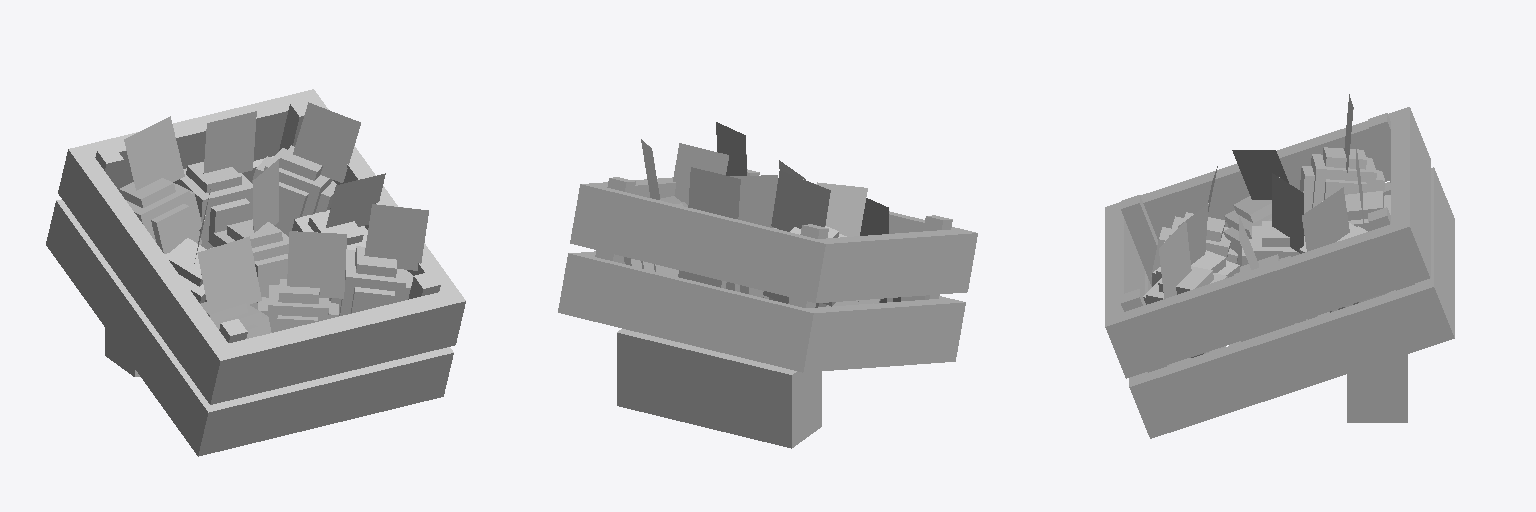
The model's file is 1746_golden_apples.obj.
3 renders of one model, left to right at view 1: azimuth 30°, elevation 25°; view 2: azimuth 150°, elevation 25°; view 3: azimuth 270°, elevation 25°, orthographic.
Visible parts, largest first — view 1: Plank8, Plank2, Plank9, Plank3, Plank11, Apple3stem, Apple7stem, Apple9stem, Apple6stem, Apple8stem, Plank5, Apple4stem (+27 smaller); view 2: Block, Plank12, Plank11, Plank8, Plank9, Apple8stem, Apple4stem, Apple1stem, Plank5, Apple5stem, Apple2stem, Plank6 (+5 smaller); view 3: Plank6, Plank5, Plank8, Plank11, Block, Plank2, Plank12, Apple7stem, Apple5stem, Apple1stem, Apple6stem, corner1 (+9 smaller).
Part boxes in pixels (x1,y1,x2,y2): Plank8: (58,145,237,404); Plank2: (228,292,448,400); Plank9: (46,199,225,456); Plank3: (216,351,435,451); Plank11: (86,94,301,191); Apple3stem: (287,231,346,298); Apple7stem: (293,102,360,182); Apple9stem: (197,236,261,306); Apple6stem: (364,204,428,270); Apple8stem: (124,116,184,190); Plank5: (296,89,465,349); Apple4stem: (203,111,256,173); Block: (617,329,821,448); Plank12: (575,257,803,367); Plank11: (587,188,814,298); Plank8: (798,229,977,302); Plank9: (786,298,965,372); Apple8stem: (771,170,830,231); Apple4stem: (688,167,740,218); Apple1stem: (816,182,867,236); Plank5: (570,177,675,247); Apple5stem: (730,175,777,227); Apple2stem: (673,143,728,204); Plank6: (558,251,624,316); Plank6: (1129,279,1454,438); Plank5: (1105,218,1430,378); Plank8: (1105,107,1430,239); Plank11: (1391,115,1430,268); Block: (1347,354,1407,422); Plank2: (1105,211,1144,317); Plank12: (1415,176,1454,328); Apple7stem: (1302,187,1349,251); Apple5stem: (1272,173,1303,252); Apple1stem: (1232,150,1288,199); Apple6stem: (1159,221,1191,299); corner1: (1121,195,1157,285).
Bounding box in the file's own units: 0.875 × 0.8483 × 1.08.